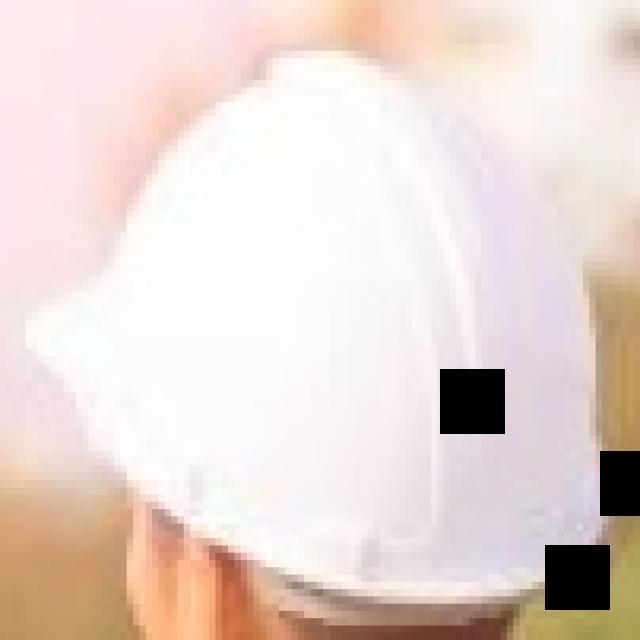white helmet: (31, 56, 607, 592)
